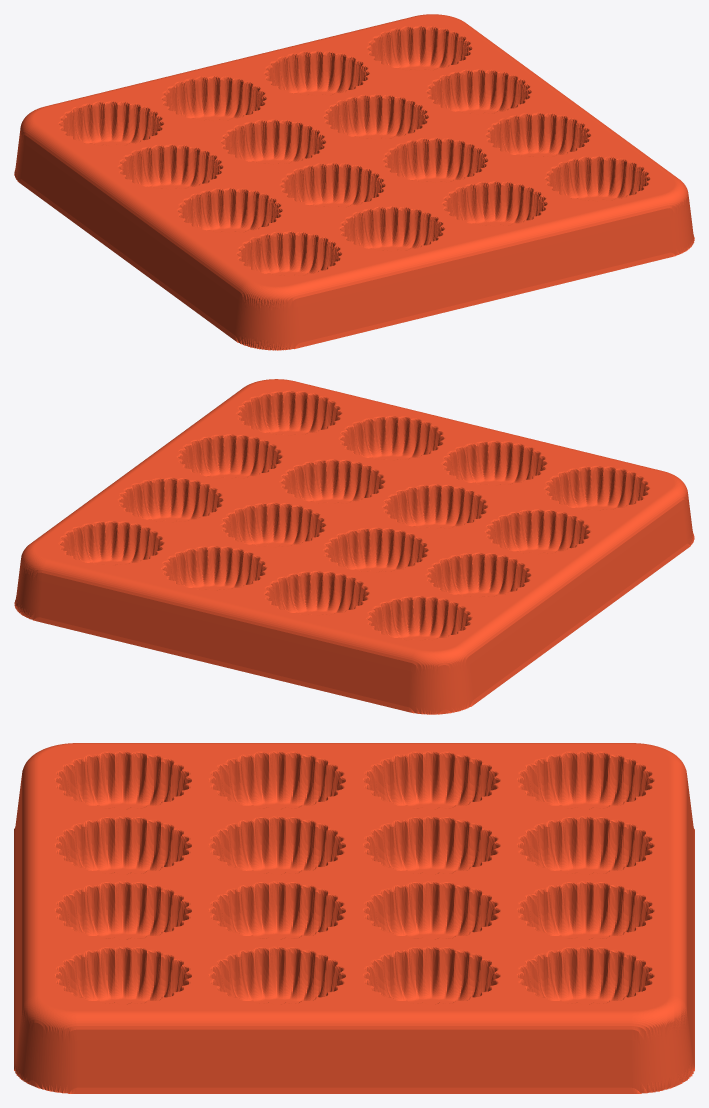
The model's file is mold.glb.
3 views of the same model, one above another, from view 1: azimuth 30°, elevation 25°; view 2: azimuth 150°, elevation 25°; view 3: azimuth 270°, elevation 25° (orthographic). The views are drawn at different scales.
Visible parts, largest first — view 1: geometry_0; view 2: geometry_0; view 3: geometry_0.
Boxes of the visible parts, x1,y1,x2,y2 form: geometry_0: (14, 14, 694, 350); geometry_0: (14, 379, 694, 714); geometry_0: (14, 743, 694, 1093).
Size of the model in its own units: 0.0972 by 0.0114 by 0.0972.
